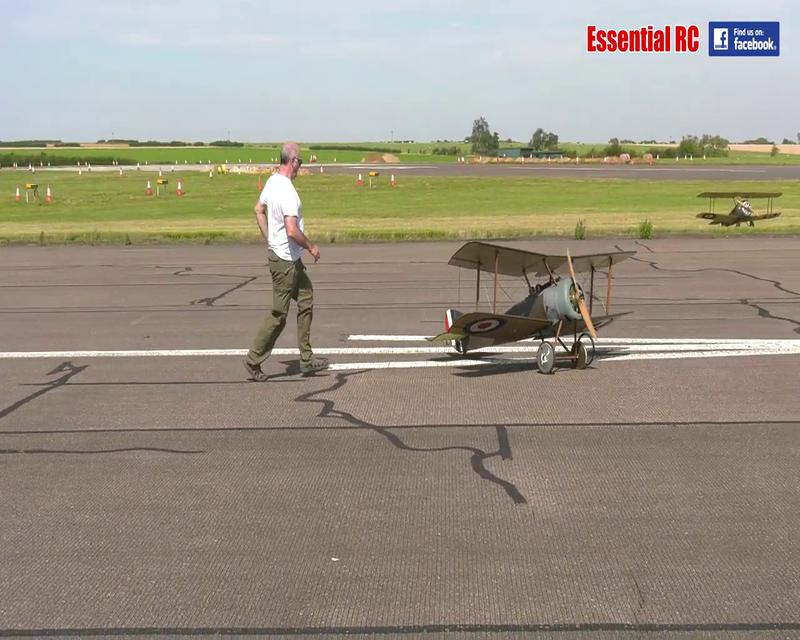UAV: (424, 240, 636, 374), (696, 191, 782, 227)
